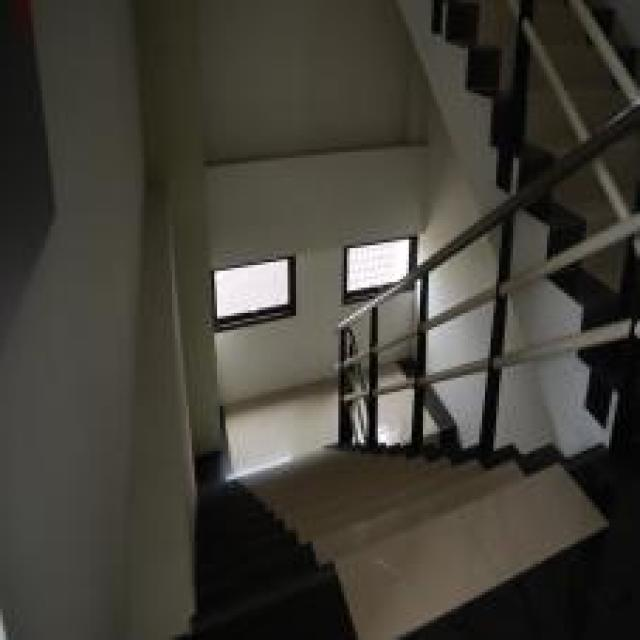downstair: (204, 464, 492, 616)
